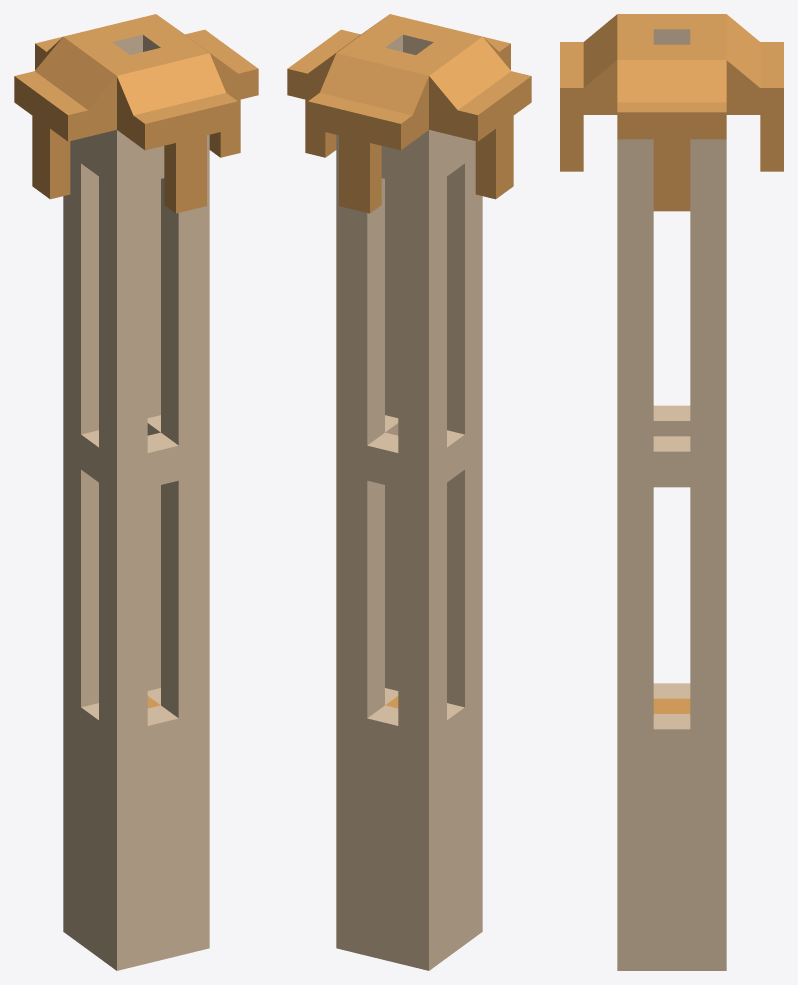
File: BACK2 1.fbx
3 views of the same model, side by side, from view 1: azimuth 30°, elevation 25°; view 2: azimuth 150°, elevation 25°; view 3: azimuth 270°, elevation 25° (orthographic).
Parts seen in each view (by area): view 1: Cube.001; view 2: Cube.001; view 3: Cube.001.
Part boxes in pixels (<box>): Cube.001: <box>14,14,258,970</box>; Cube.001: <box>287,14,531,970</box>; Cube.001: <box>560,14,783,970</box>.
Size of the model in its own units: 410 by 1843 by 410.
